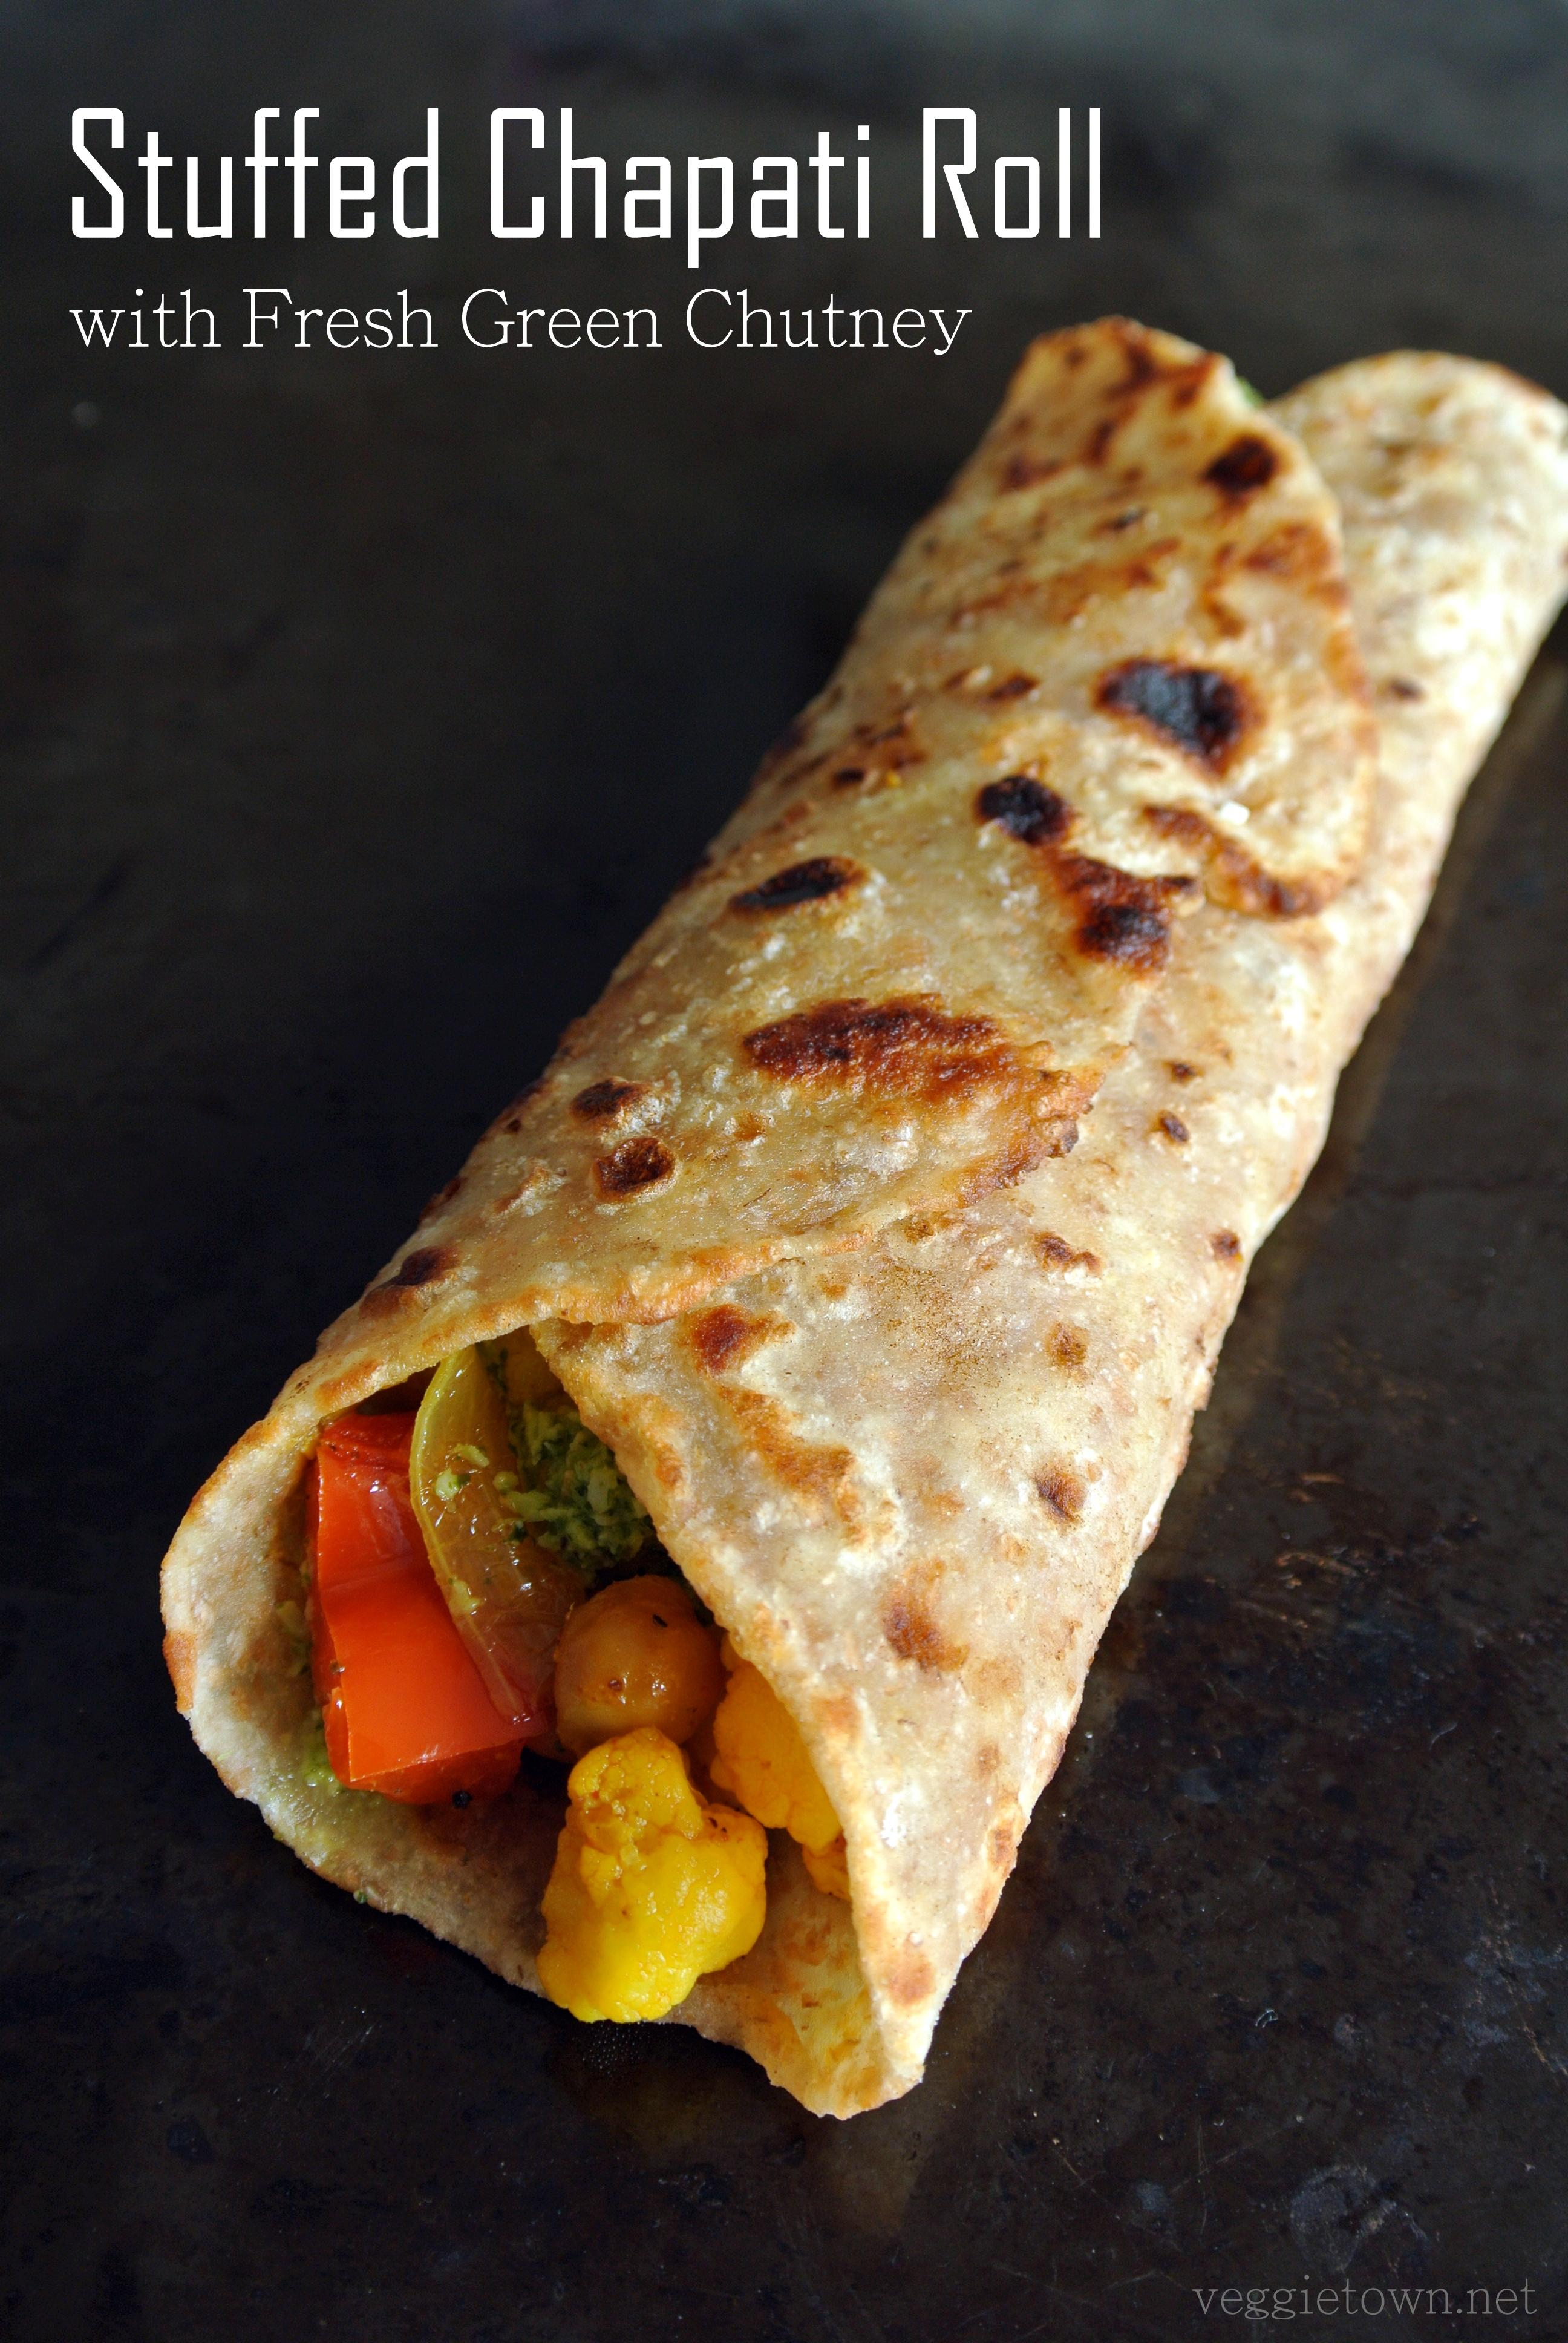chapati: (169, 320, 1564, 2109)
